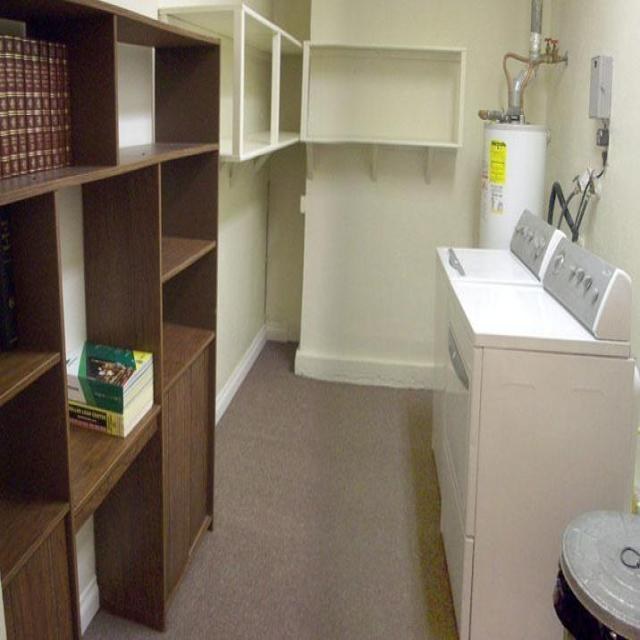cupboard: (0, 0, 221, 638)
indoor-plant: (1, 1, 636, 638)
pots: (552, 508, 639, 638), (477, 120, 549, 249)
